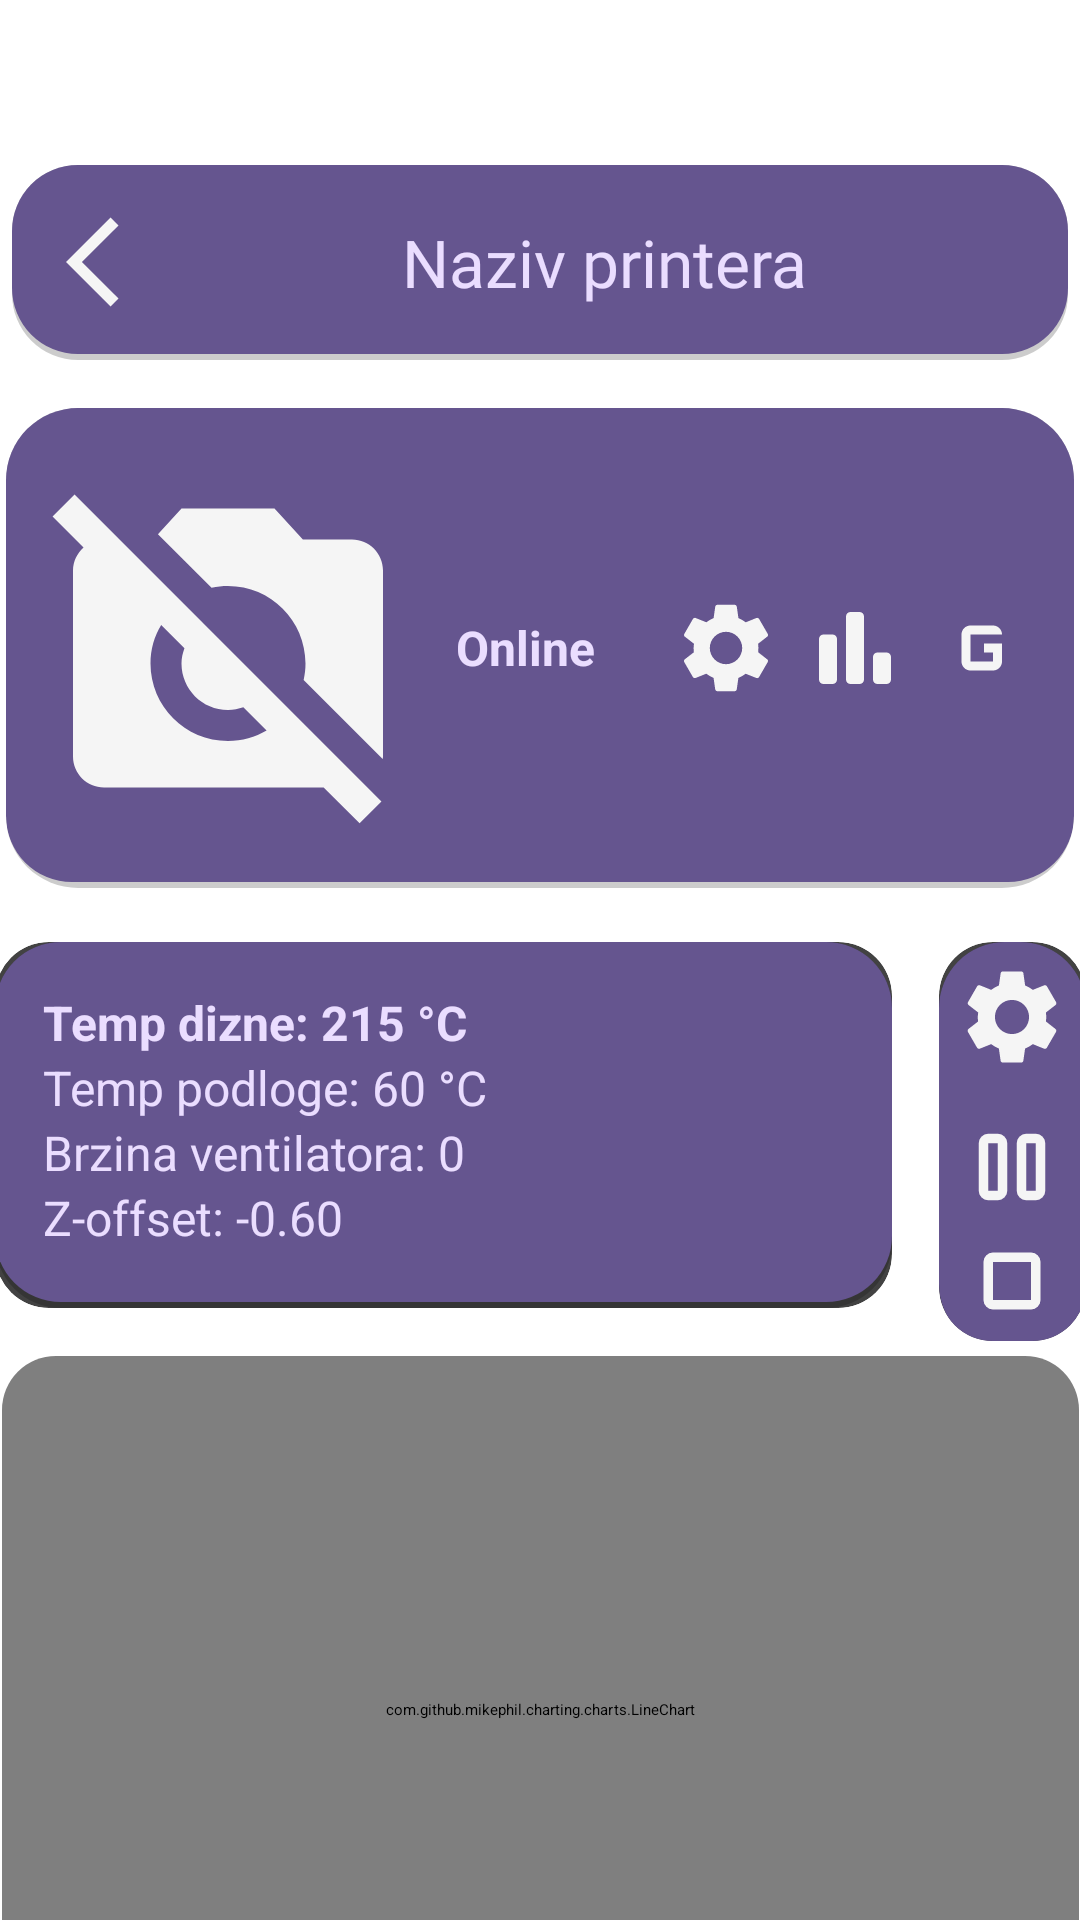

Named icons in this screenshot (1080px×1920px) and their bounding boxes, (x1=x1, y1=y1, x2=x2, y2=y2):
arrow back: (x1=66, y1=217, x2=119, y2=307)
bar chart: (x1=819, y1=612, x2=891, y2=684)
no photography: (x1=52, y1=494, x2=383, y2=823)
pause: (x1=978, y1=1133, x2=1046, y2=1201)
settings: (x1=684, y1=604, x2=768, y2=692), (x1=967, y1=971, x2=1057, y2=1063)
stop: (x1=983, y1=1252, x2=1041, y2=1310)
